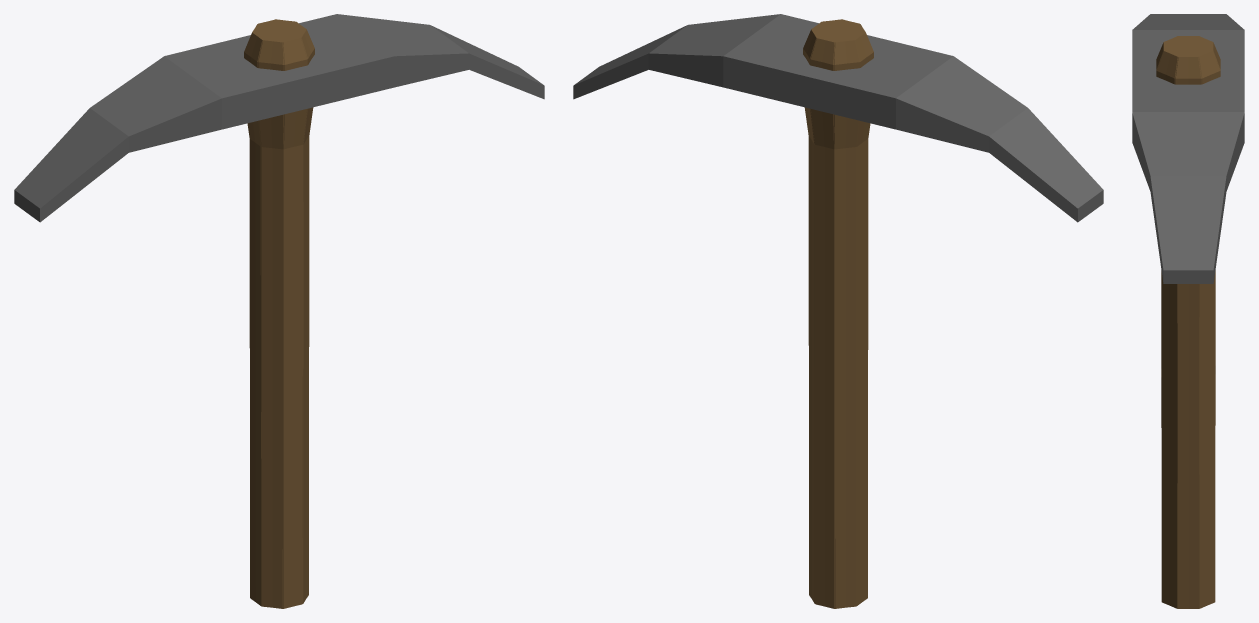
File: pickaxe.fbx
3 renders of one model, left to right at view 1: azimuth 30°, elevation 25°; view 2: azimuth 150°, elevation 25°; view 3: azimuth 270°, elevation 25°, orthographic. The views are drawn at different scales.
Visible parts, largest first — view 1: Pickaxe; view 2: Pickaxe; view 3: Pickaxe.
Boxes of the visible parts, x1=… form: Pickaxe: x1=14, y1=14, x2=544, y2=608; Pickaxe: x1=573, y1=14, x2=1103, y2=608; Pickaxe: x1=1132, y1=14, x2=1244, y2=608.
Bounding box in the file's own units: 166 × 178 × 32.89.
